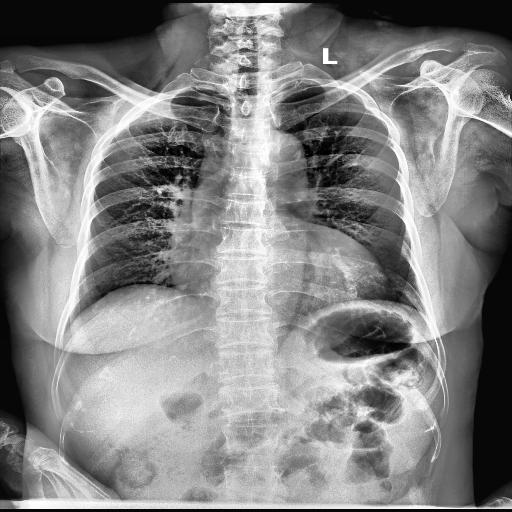0- Aortic enlargement: (197, 132, 308, 202), (242, 130, 310, 210), (252, 132, 306, 182)
13- Pulmonary fibrosis: (127, 162, 188, 218)
3- Cardiomegaly: (170, 234, 386, 302), (166, 244, 391, 306)
